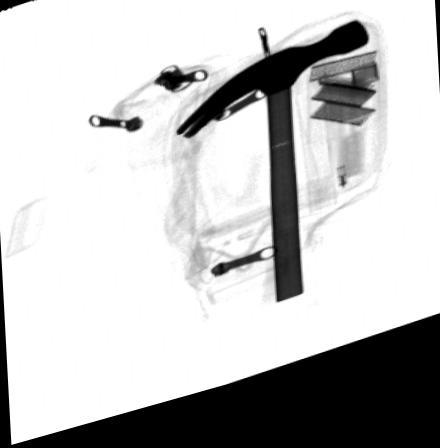Hammer: (175, 38, 371, 320)
